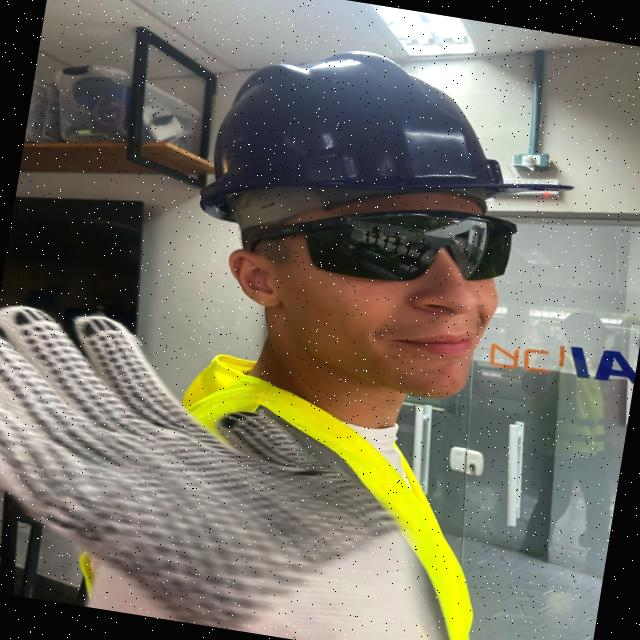CAPACETE: (198, 41, 570, 226)
COLETE: (66, 347, 462, 640)
LUVA: (0, 299, 460, 640)
OCULOS: (230, 205, 524, 295)
